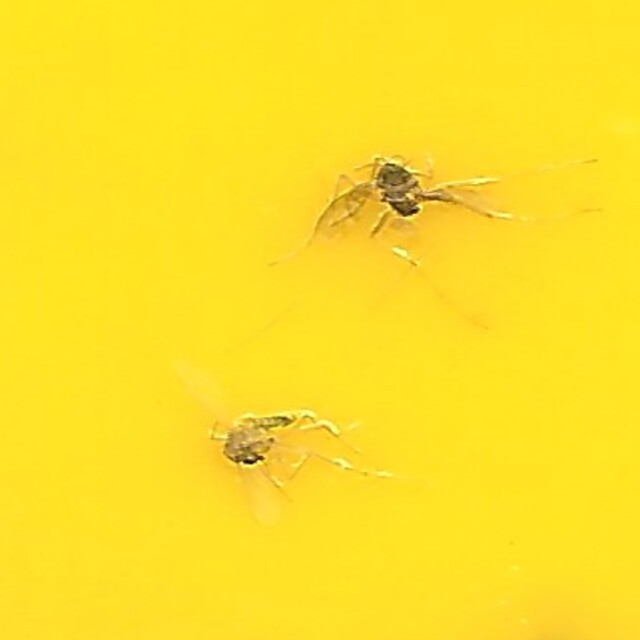Nematocera: (199, 395, 383, 493), (273, 147, 441, 248)
